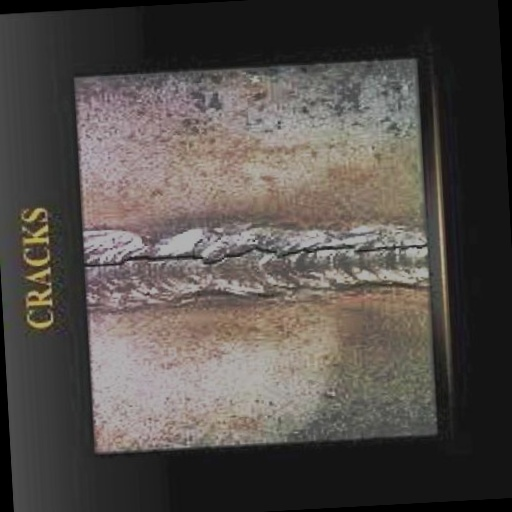crack: (83, 225, 428, 286)
